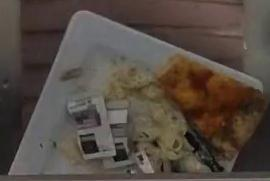pasta: (103, 83, 210, 173)
pizza: (103, 53, 263, 172)
